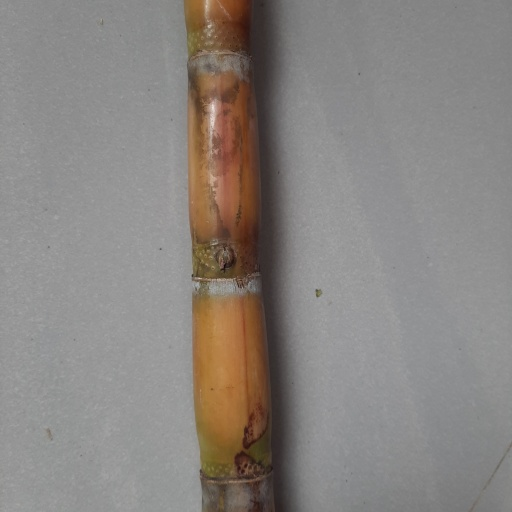Bud: (214, 244, 236, 277)
